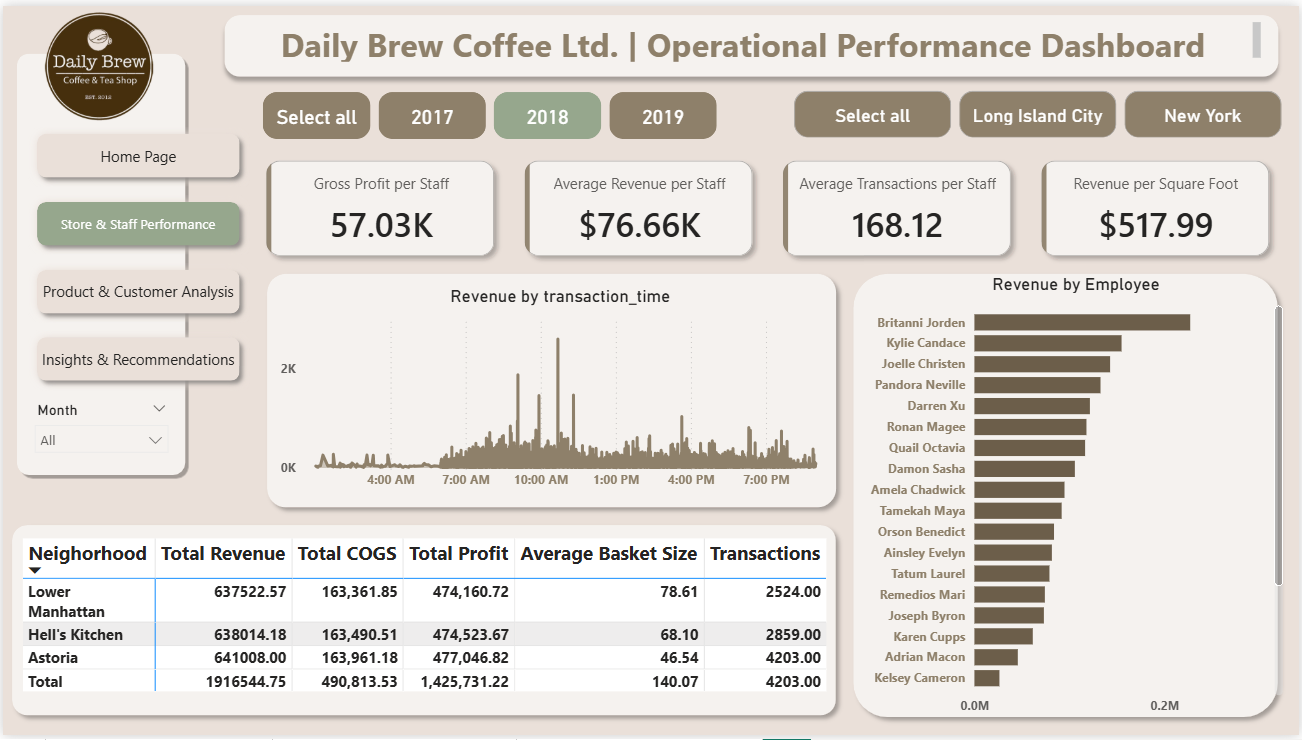

The page's visual inventory and layout, read from the dashboard file:
{"tool":"powerbi","page":{"name":"Store & Staff Performance","canvas":[1280,720],"ordinal":1},"visuals":[{"type":"shape","box":[831.4,255.7,437.1,455.7],"z":0},{"type":"shape","box":[0,504.3,831.4,205.7],"z":1000},{"type":"shape","box":[251.4,255.7,580,248.6],"z":2000},{"type":"advancedSlicerVisual","fields":{"Values":["Store.store_city"]},"box":[776.2,78.8,492.5,56.2],"z":3000},{"type":"advancedSlicerVisual","fields":{"Values":["Calender.Year_ID"]},"box":[251.2,80,461.2,56.2],"z":4000},{"type":"shape","box":[210,0,1058.8,78.8],"z":5000},{"type":"textbox","box":[222.5,11.2,1025,48.8],"z":6000},{"type":"cardVisual","fields":{"Data":["_masure.Gross Profit per Staff","_masure.Average Revenue per Staff","_masure.Average Transactions per Staff","_masure.Revenue per Square Foot"]},"box":[242.9,135.7,1025.7,128.6],"z":7000},{"type":"clusteredBarChart","title":" Revenue by Employee","fields":{"Category":["Employee.Employee_Name"],"Y":["_masure.Total Revenue"]},"box":[850,264.3,418.6,445.7],"z":8000},{"type":"areaChart","title":" Revenue by transaction_time","fields":{"Category":["Sales.transaction_time"],"Y":["_masure.Total Revenue"]},"box":[268.6,277.1,562.9,210],"z":9000},{"type":"pivotTable","fields":{"Rows":["Store.Neighorhood"],"Values":["_masure.Total Revenue","_masure.Total COGS","_masure.Total Profit","_masure.Average Basket Size","_masure.Transactions"]},"box":[14.3,521.4,817.1,174.3],"z":10000},{"type":"slicer","fields":{"Values":["Calender.Month"]},"box":[20.8,384.6,152.3,71.5],"z":11000},{"type":"shape","box":[8.4,42.2,188.2,427.1],"z":12000},{"type":"pageNavigator","box":[19.3,117,218.4,263],"z":13000},{"type":"slicer","fields":{"Values":["Calender.Month"]},"box":[30.8,394.6,152.3,71.5],"z":14000},{"type":"image","box":[26,0,152.9,121.2],"z":15000}]}

Visuals, with their boxes in screenshot pixels (x1, y1, x2, y2), scaled from the page's 1280x720 canvas onto the 1302x740 screenshot:
shape: Rect(846, 263, 1290, 731)
shape: Rect(0, 518, 846, 730)
shape: Rect(256, 263, 846, 518)
advancedSlicerVisual - Store.store_city: Rect(790, 81, 1291, 139)
advancedSlicerVisual - Calender.Year_ID: Rect(256, 82, 725, 140)
shape: Rect(214, 0, 1291, 81)
textbox: Rect(226, 12, 1269, 62)
cardVisual - _masure.Gross Profit per Staff x _masure.Average Revenue per Staff: Rect(247, 139, 1290, 272)
" Revenue by Employee" clusteredBarChart: Rect(865, 272, 1290, 730)
" Revenue by transaction_time" areaChart: Rect(273, 285, 846, 501)
pivotTable - Store.Neighorhood x _masure.Total Revenue: Rect(15, 536, 846, 715)
slicer - Calender.Month: Rect(21, 395, 176, 469)
shape: Rect(9, 43, 200, 482)
pageNavigator: Rect(20, 120, 242, 391)
slicer - Calender.Month: Rect(31, 406, 186, 479)
image: Rect(26, 0, 182, 125)
